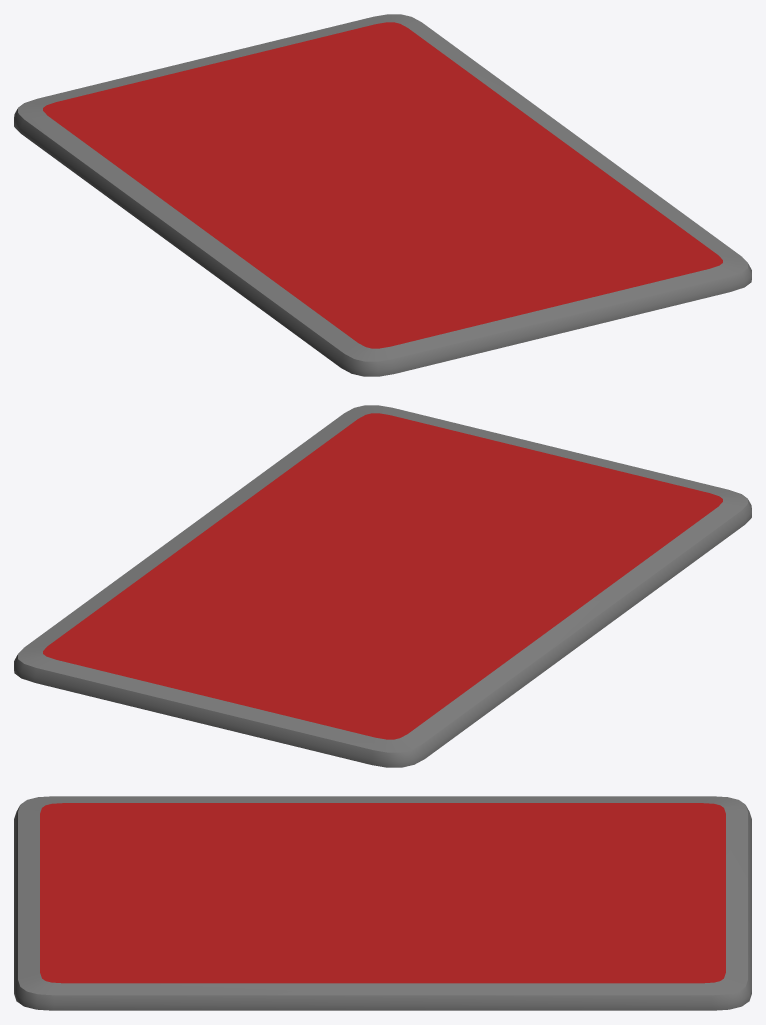
Rendered from SM_carpet_01.fbx.
3 renders of one model, top to bottom at view 1: azimuth 30°, elevation 25°; view 2: azimuth 150°, elevation 25°; view 3: azimuth 270°, elevation 25°, orthographic. The views are drawn at different scales.
Parts seen in each view (by area): view 1: Box343; view 2: Box343; view 3: Box343.
Boxes of the visible parts, x1,y1,x2,y2 form: Box343: (14, 14, 751, 376); Box343: (14, 405, 751, 767); Box343: (14, 796, 751, 1010).
Size of the model in its own units: 99.17 by 3.73 by 153.
